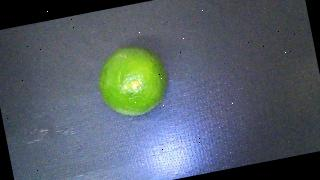EXPORTACION: (93, 41, 173, 121)
